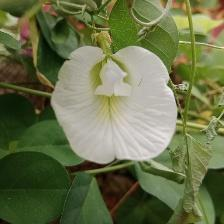shankupushpam: (50, 32, 181, 168)
